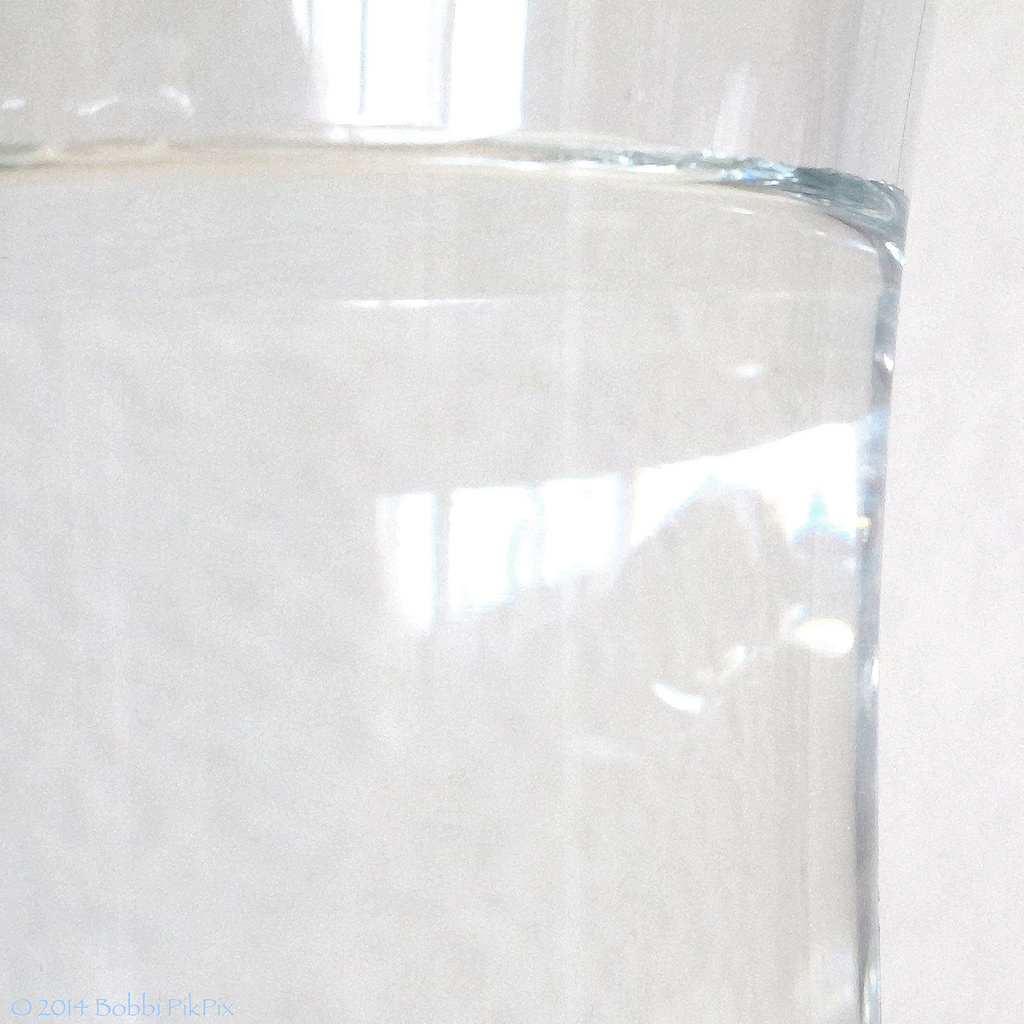glass of water: (1, 1, 956, 1024)
